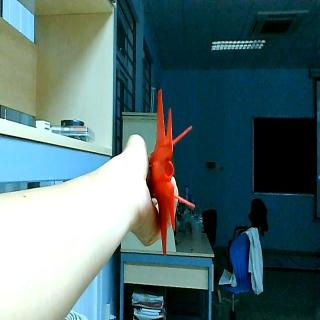Jet: (150, 87, 195, 258)
